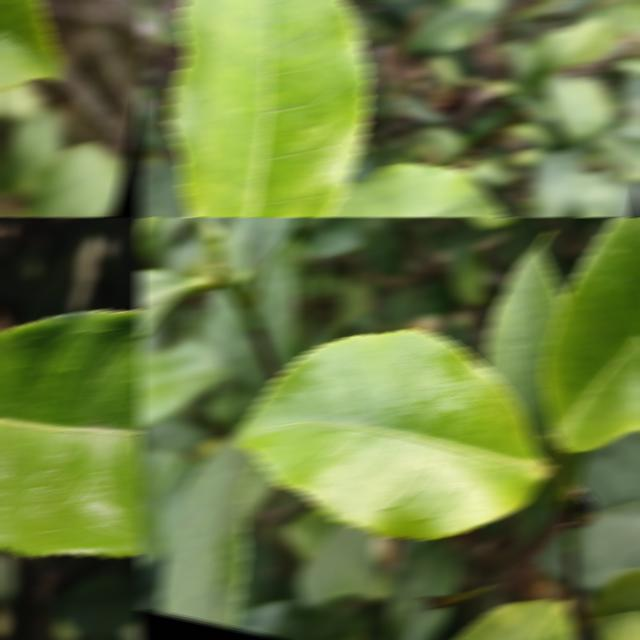Leaf: (236, 329, 551, 539), (166, 0, 370, 217), (0, 310, 142, 556), (541, 217, 640, 451), (158, 430, 260, 628), (483, 244, 564, 443), (574, 431, 640, 590), (324, 162, 503, 217), (385, 539, 462, 640), (138, 340, 226, 427), (28, 141, 127, 217), (296, 522, 386, 605), (138, 449, 199, 567), (528, 149, 623, 217), (232, 599, 377, 640), (56, 570, 142, 639), (3, 109, 65, 195), (451, 598, 575, 640), (138, 269, 211, 340), (543, 75, 614, 144), (587, 568, 640, 640), (447, 217, 487, 306), (138, 165, 188, 217), (304, 217, 363, 258)
